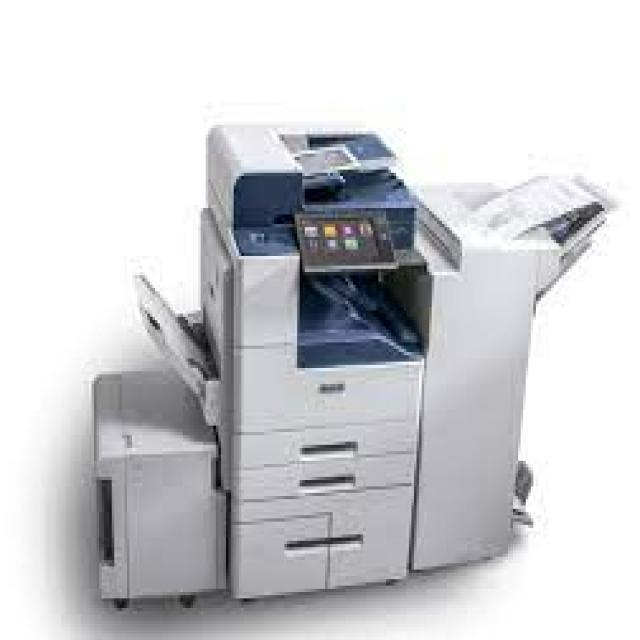printer: (73, 83, 628, 626)
